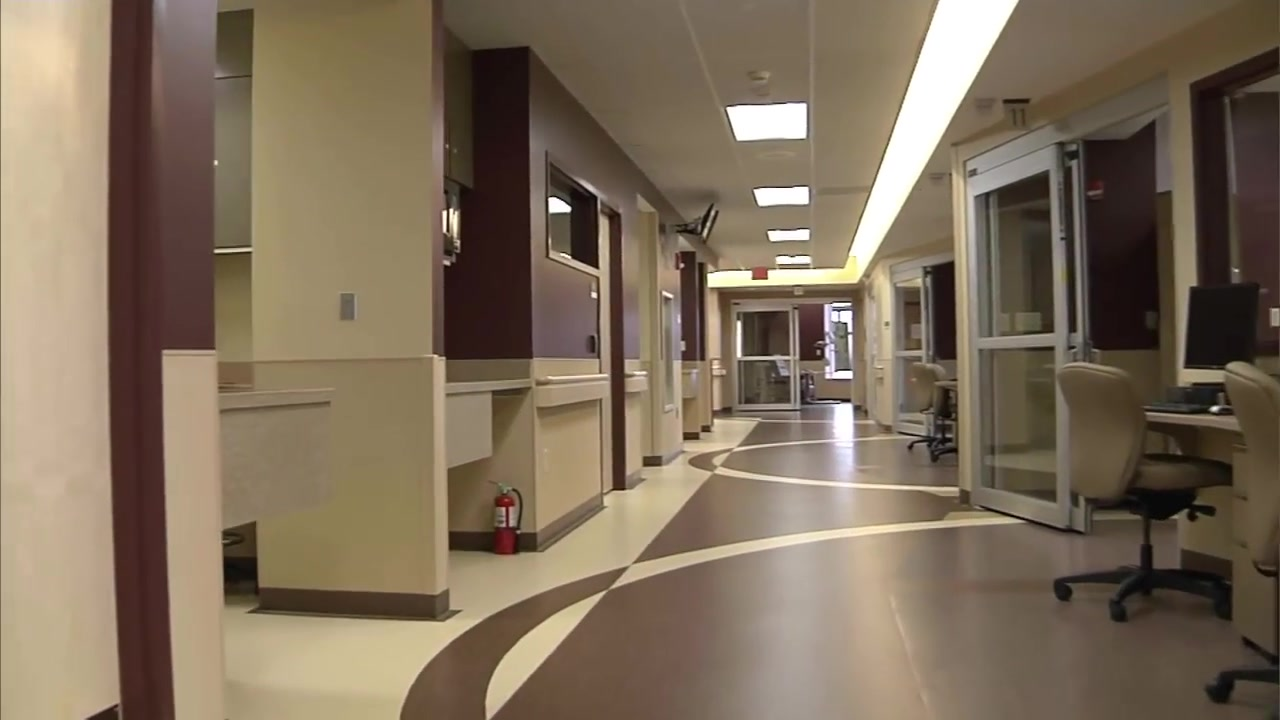TV: (697, 202, 721, 246)
chair: (1054, 360, 1231, 623), (1201, 360, 1280, 705), (758, 355, 820, 407), (928, 362, 959, 462), (907, 359, 930, 456)
computer: (1182, 282, 1261, 370)
counter: (209, 391, 333, 520), (438, 379, 526, 469)
countertop: (201, 376, 340, 417), (1146, 412, 1242, 432), (442, 377, 529, 397)
hallway_assist_bar: (535, 372, 611, 385), (625, 371, 652, 380), (871, 366, 883, 371)
handle: (1071, 344, 1100, 361)
keyboard: (1142, 401, 1209, 413)
mouse: (1209, 404, 1234, 416)
